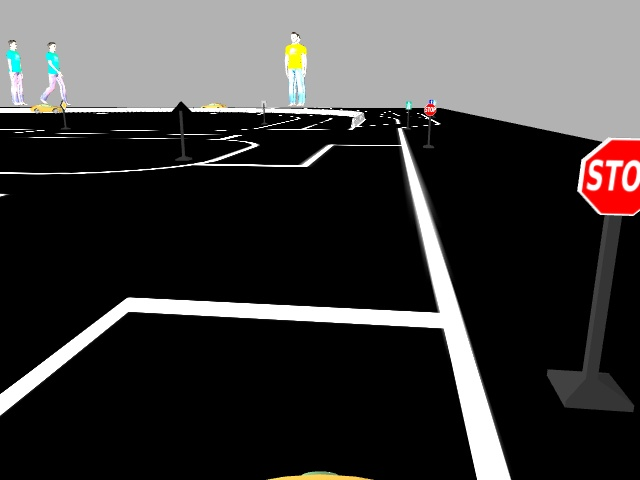Stop: (573, 130, 639, 223), (421, 103, 437, 116)
